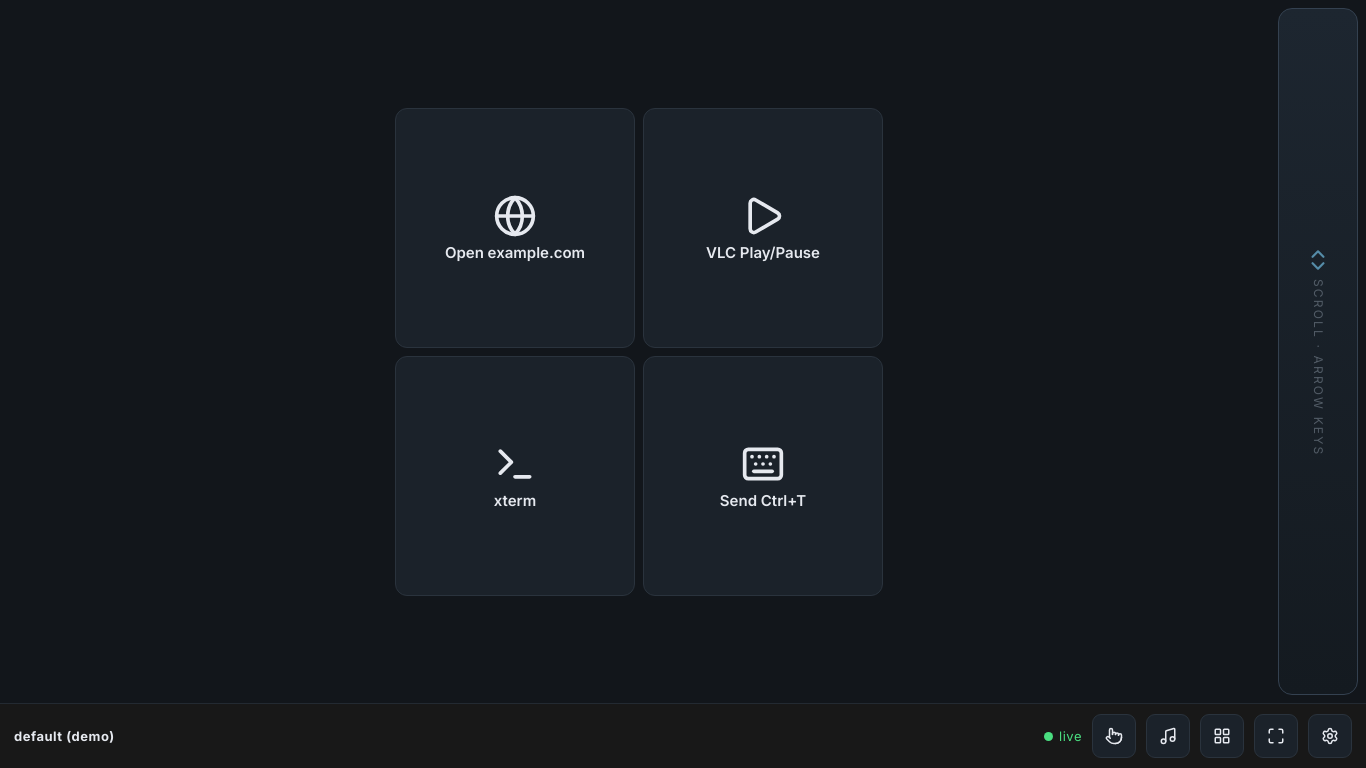
Test: App — running windows chrome view › renders one row per window with the daemon-derived label
Press the mouse on the button named "running programs" at (1222, 736), box [1200, 714, 1244, 758]
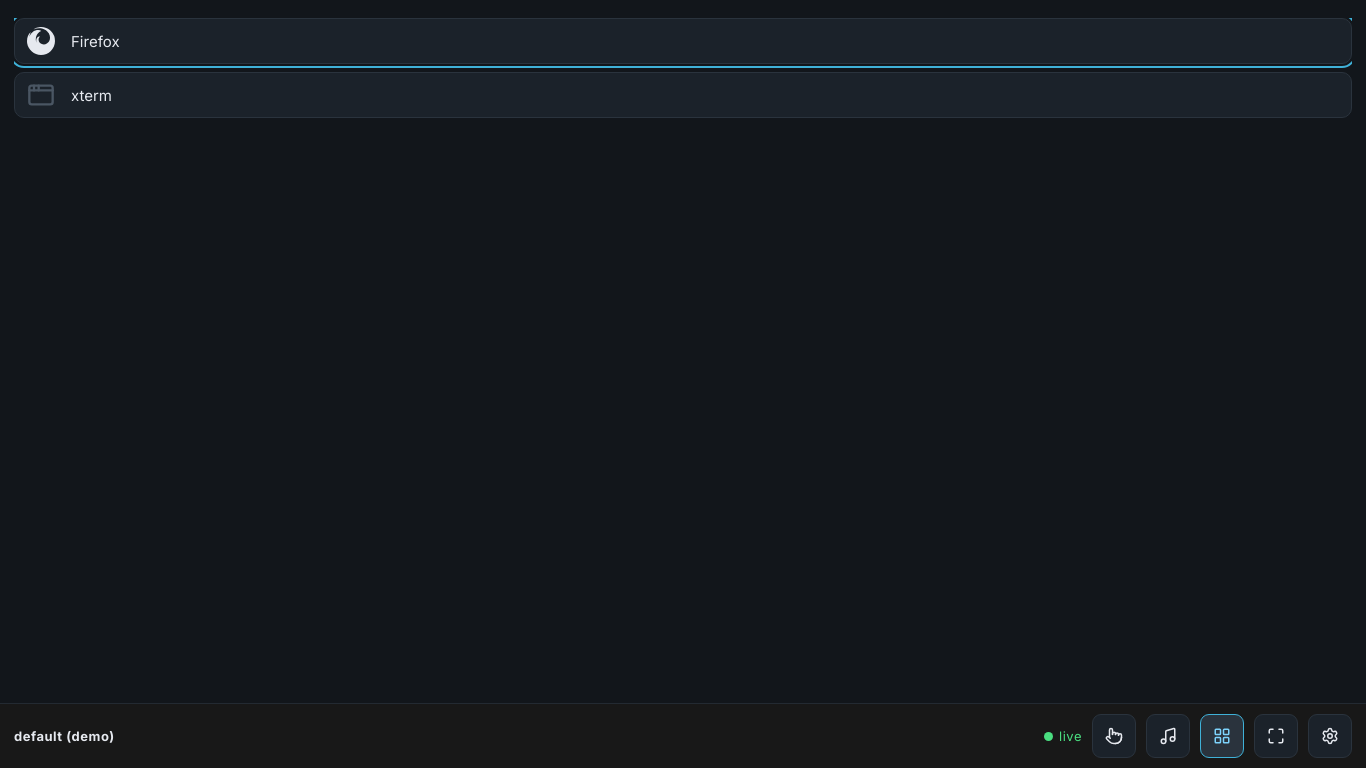
Expected: the button with class "windows-row" reads "xterm", [14, 72, 1352, 118]
Expected: the number of buttons with class "windows-row" is 2, [14, 18, 1352, 64]; [14, 72, 1352, 118]
Expected: the button with class "windows-row" reads "Firefox", [14, 18, 1352, 64]
